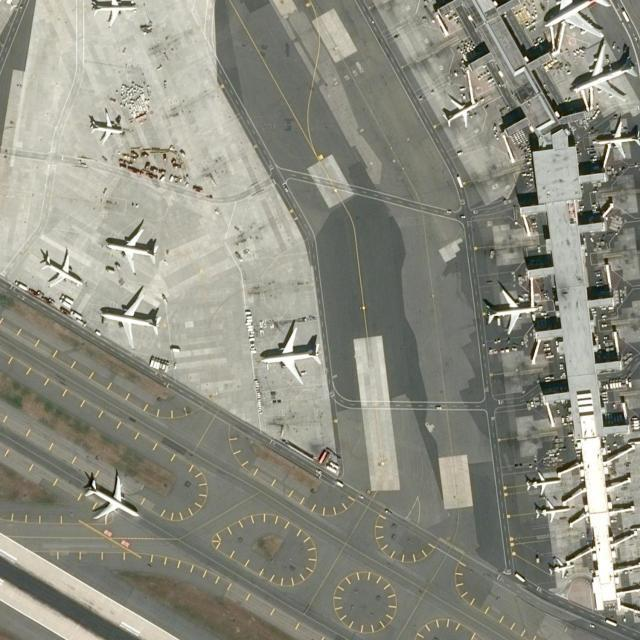Aircraft: (570, 41, 640, 99), (98, 287, 161, 347), (259, 323, 321, 383), (84, 469, 140, 523), (103, 221, 161, 273), (484, 284, 538, 334), (539, 0, 610, 36), (592, 116, 640, 160), (38, 247, 84, 291), (441, 93, 481, 127), (90, 108, 124, 144), (89, 0, 137, 24), (532, 496, 568, 520), (526, 465, 558, 488), (543, 553, 573, 577), (629, 424, 639, 455)
